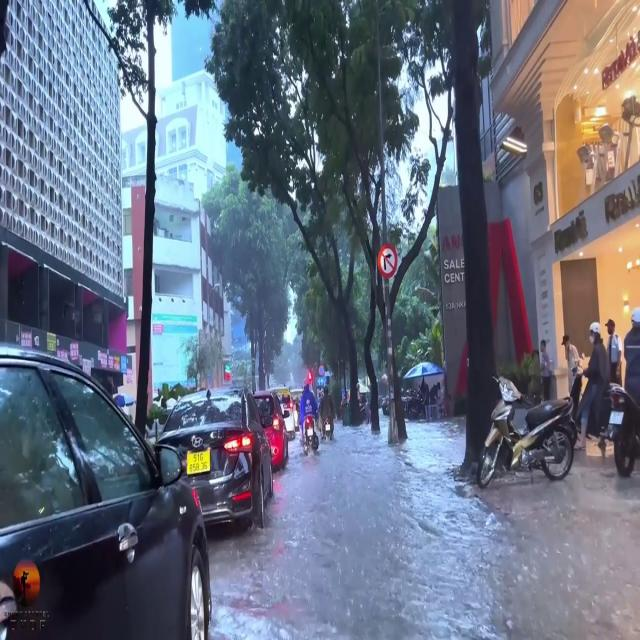bien_vang: (183, 448, 212, 473)
